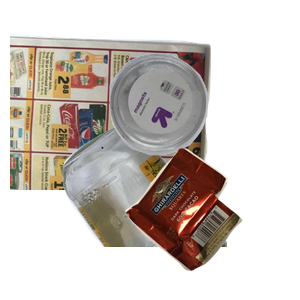glass: (60, 120, 300, 300)
paper: (10, 31, 214, 211)
plastic: (107, 51, 300, 199)
trash: (123, 145, 300, 300)
